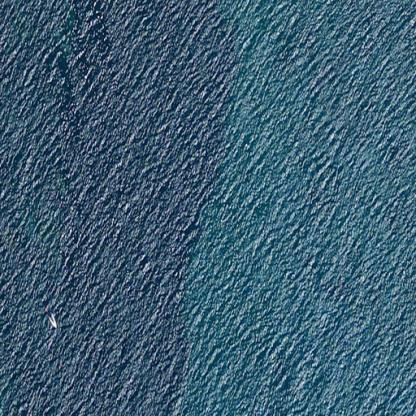ship: (38, 302, 62, 332)
